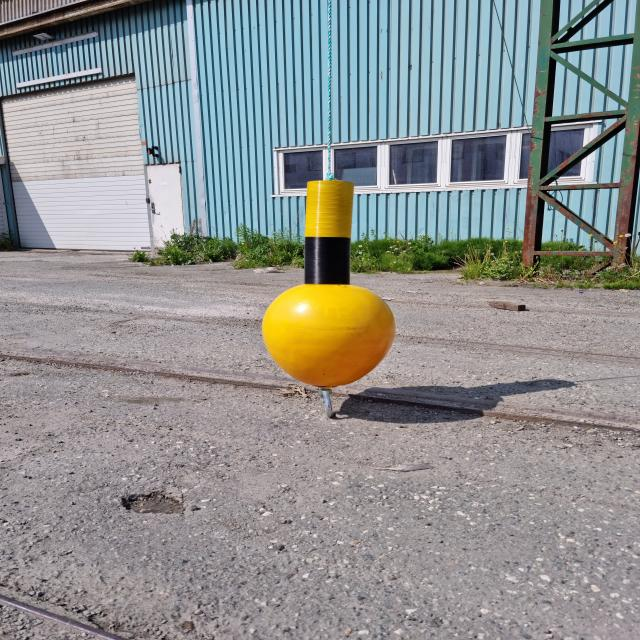west: (261, 179, 395, 385)
